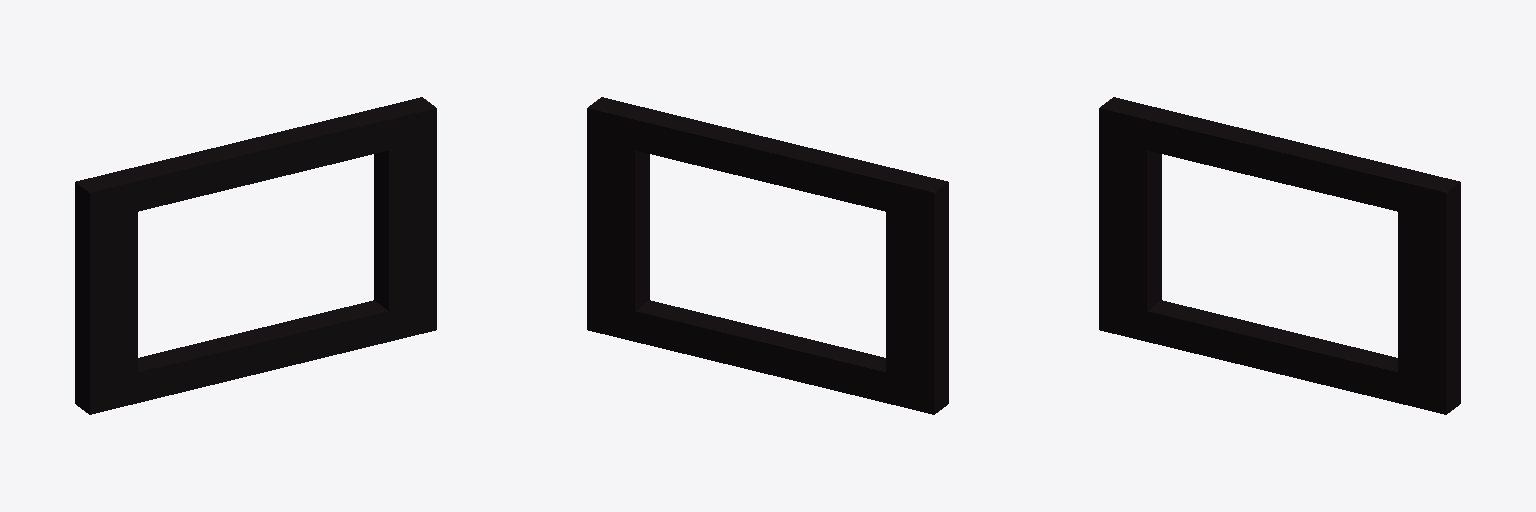
The model's file is Entry3.OBJ.
3 renders of one model, left to right at view 1: azimuth 30°, elevation 25°; view 2: azimuth 150°, elevation 25°; view 3: azimuth 330°, elevation 25°, orthographic.
Visible parts, largest first — view 1: Entry3_Cube.003; view 2: Entry3_Cube.003; view 3: Entry3_Cube.003.
Part boxes in pixels (x1,y1,x2,y2): Entry3_Cube.003: (75, 97, 436, 414); Entry3_Cube.003: (587, 97, 948, 414); Entry3_Cube.003: (1099, 97, 1460, 414).
Bounding box in the file's own units: 0.0065 × 0.004 × 0.0005.